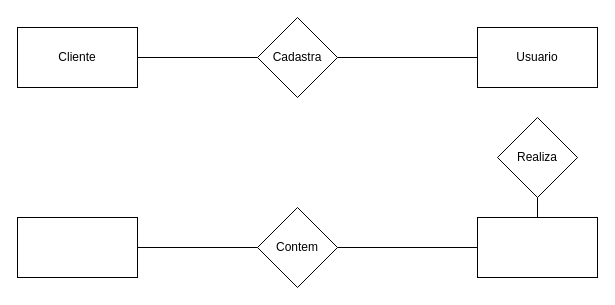
The diagram is 615 pixels wide and 305 high, and some of its shapes have lost their labels. The centre of each missing label's shape, as x and y in pixels:
"Pedido" goes at point (537, 247).
"Produto" goes at point (77, 247).
